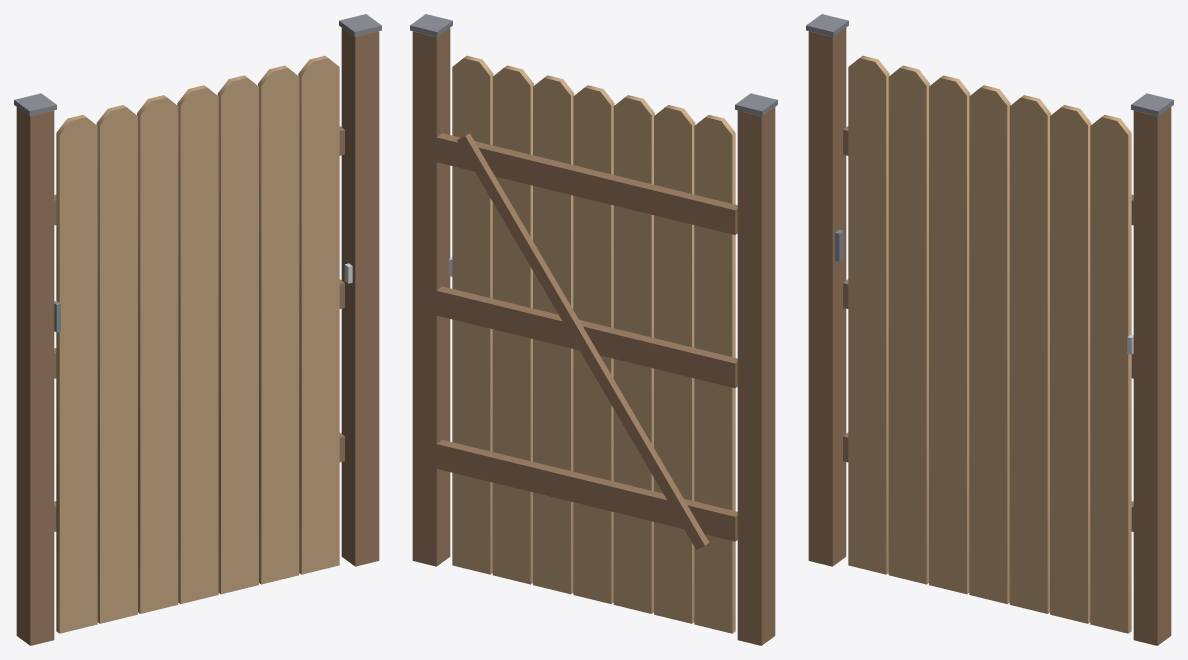
File: WoodFence_Gate.fbx
3 views of the same model, side by side, from view 1: azimuth 30°, elevation 25°; view 2: azimuth 150°, elevation 25°; view 3: azimuth 330°, elevation 25° (orthographic).
Parts seen in each view (by area): view 1: LOD0; view 2: LOD0; view 3: LOD0.
Part boxes in pixels (bbox=[...]): LOD0: bbox=[14, 14, 381, 645]; LOD0: bbox=[410, 14, 777, 645]; LOD0: bbox=[806, 14, 1173, 645].
Size of what is drawn, in the model's own units: 132 by 192 by 13.6.
